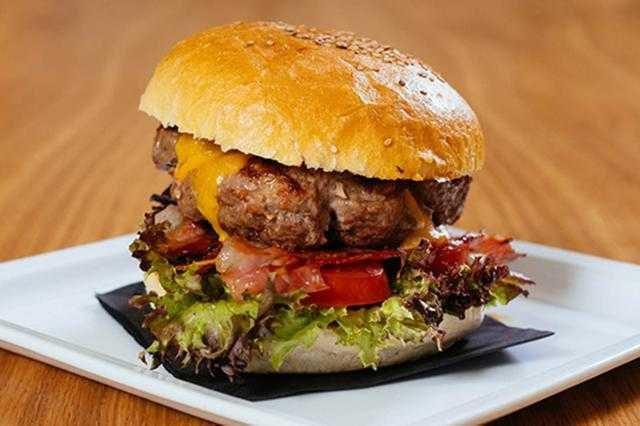hamburger: (127, 17, 511, 351)
